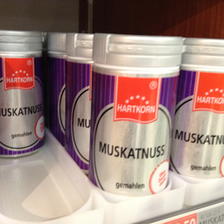spices: (87, 32, 185, 194), (1, 30, 46, 159)
